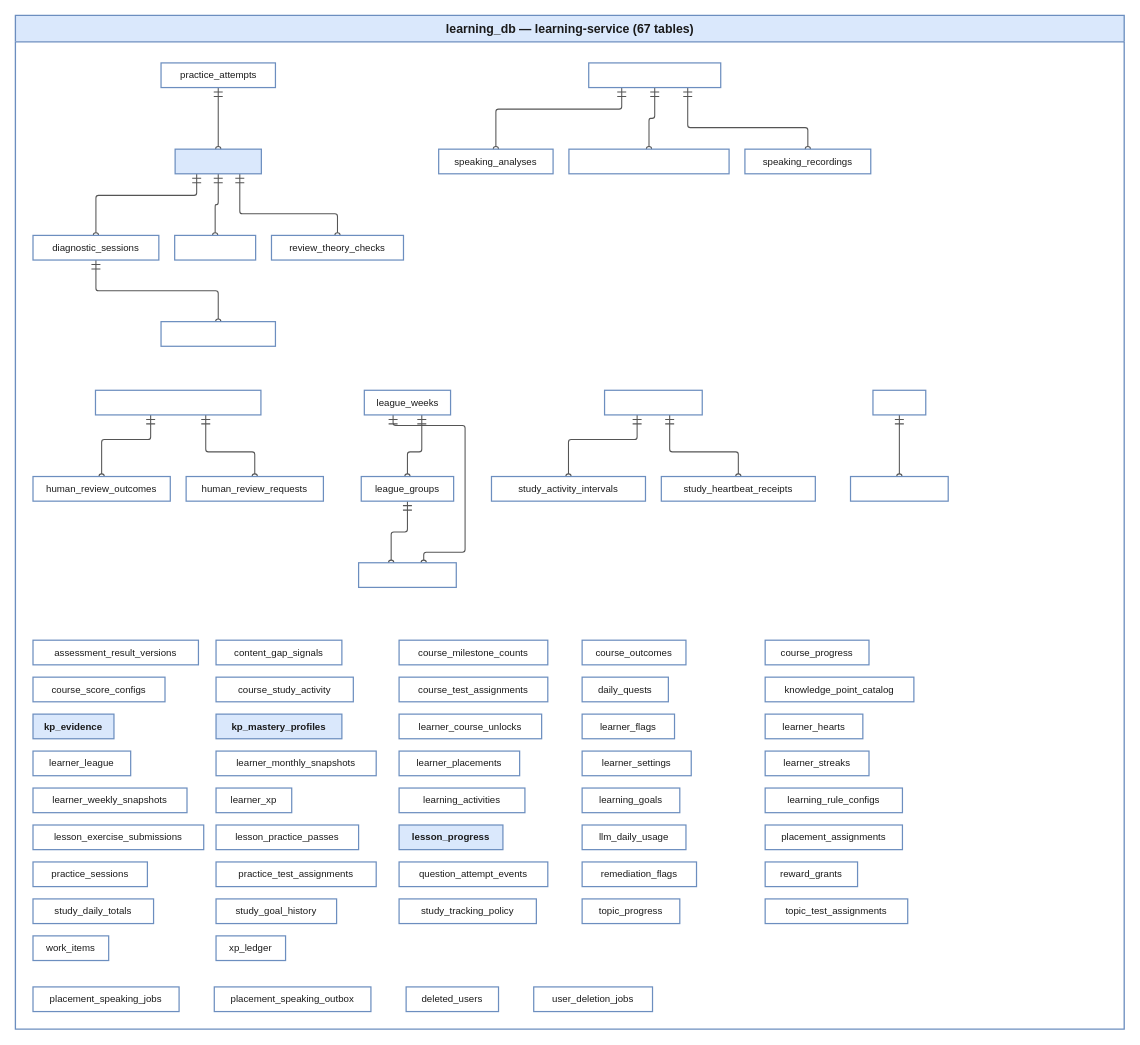
Some shapes in this 1140 by 1045 pixel diagram are drawn without their labels. Each missing label, with the box of its shape:
badges: (872, 389, 926, 415)
diagnostic_probes: (160, 321, 276, 346)
league_members: (358, 562, 456, 588)
learner_badges: (849, 475, 948, 501)
lesson_writing_submissions: (94, 389, 261, 415)
review_items: (174, 148, 262, 174)
review_sets: (174, 234, 256, 260)
speaking_grading_contexts: (568, 148, 729, 174)
speaking_submissions: (588, 62, 721, 88)
study_sessions: (604, 389, 702, 415)
